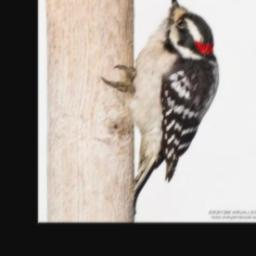Woodpecker: (102, 0, 220, 182)
